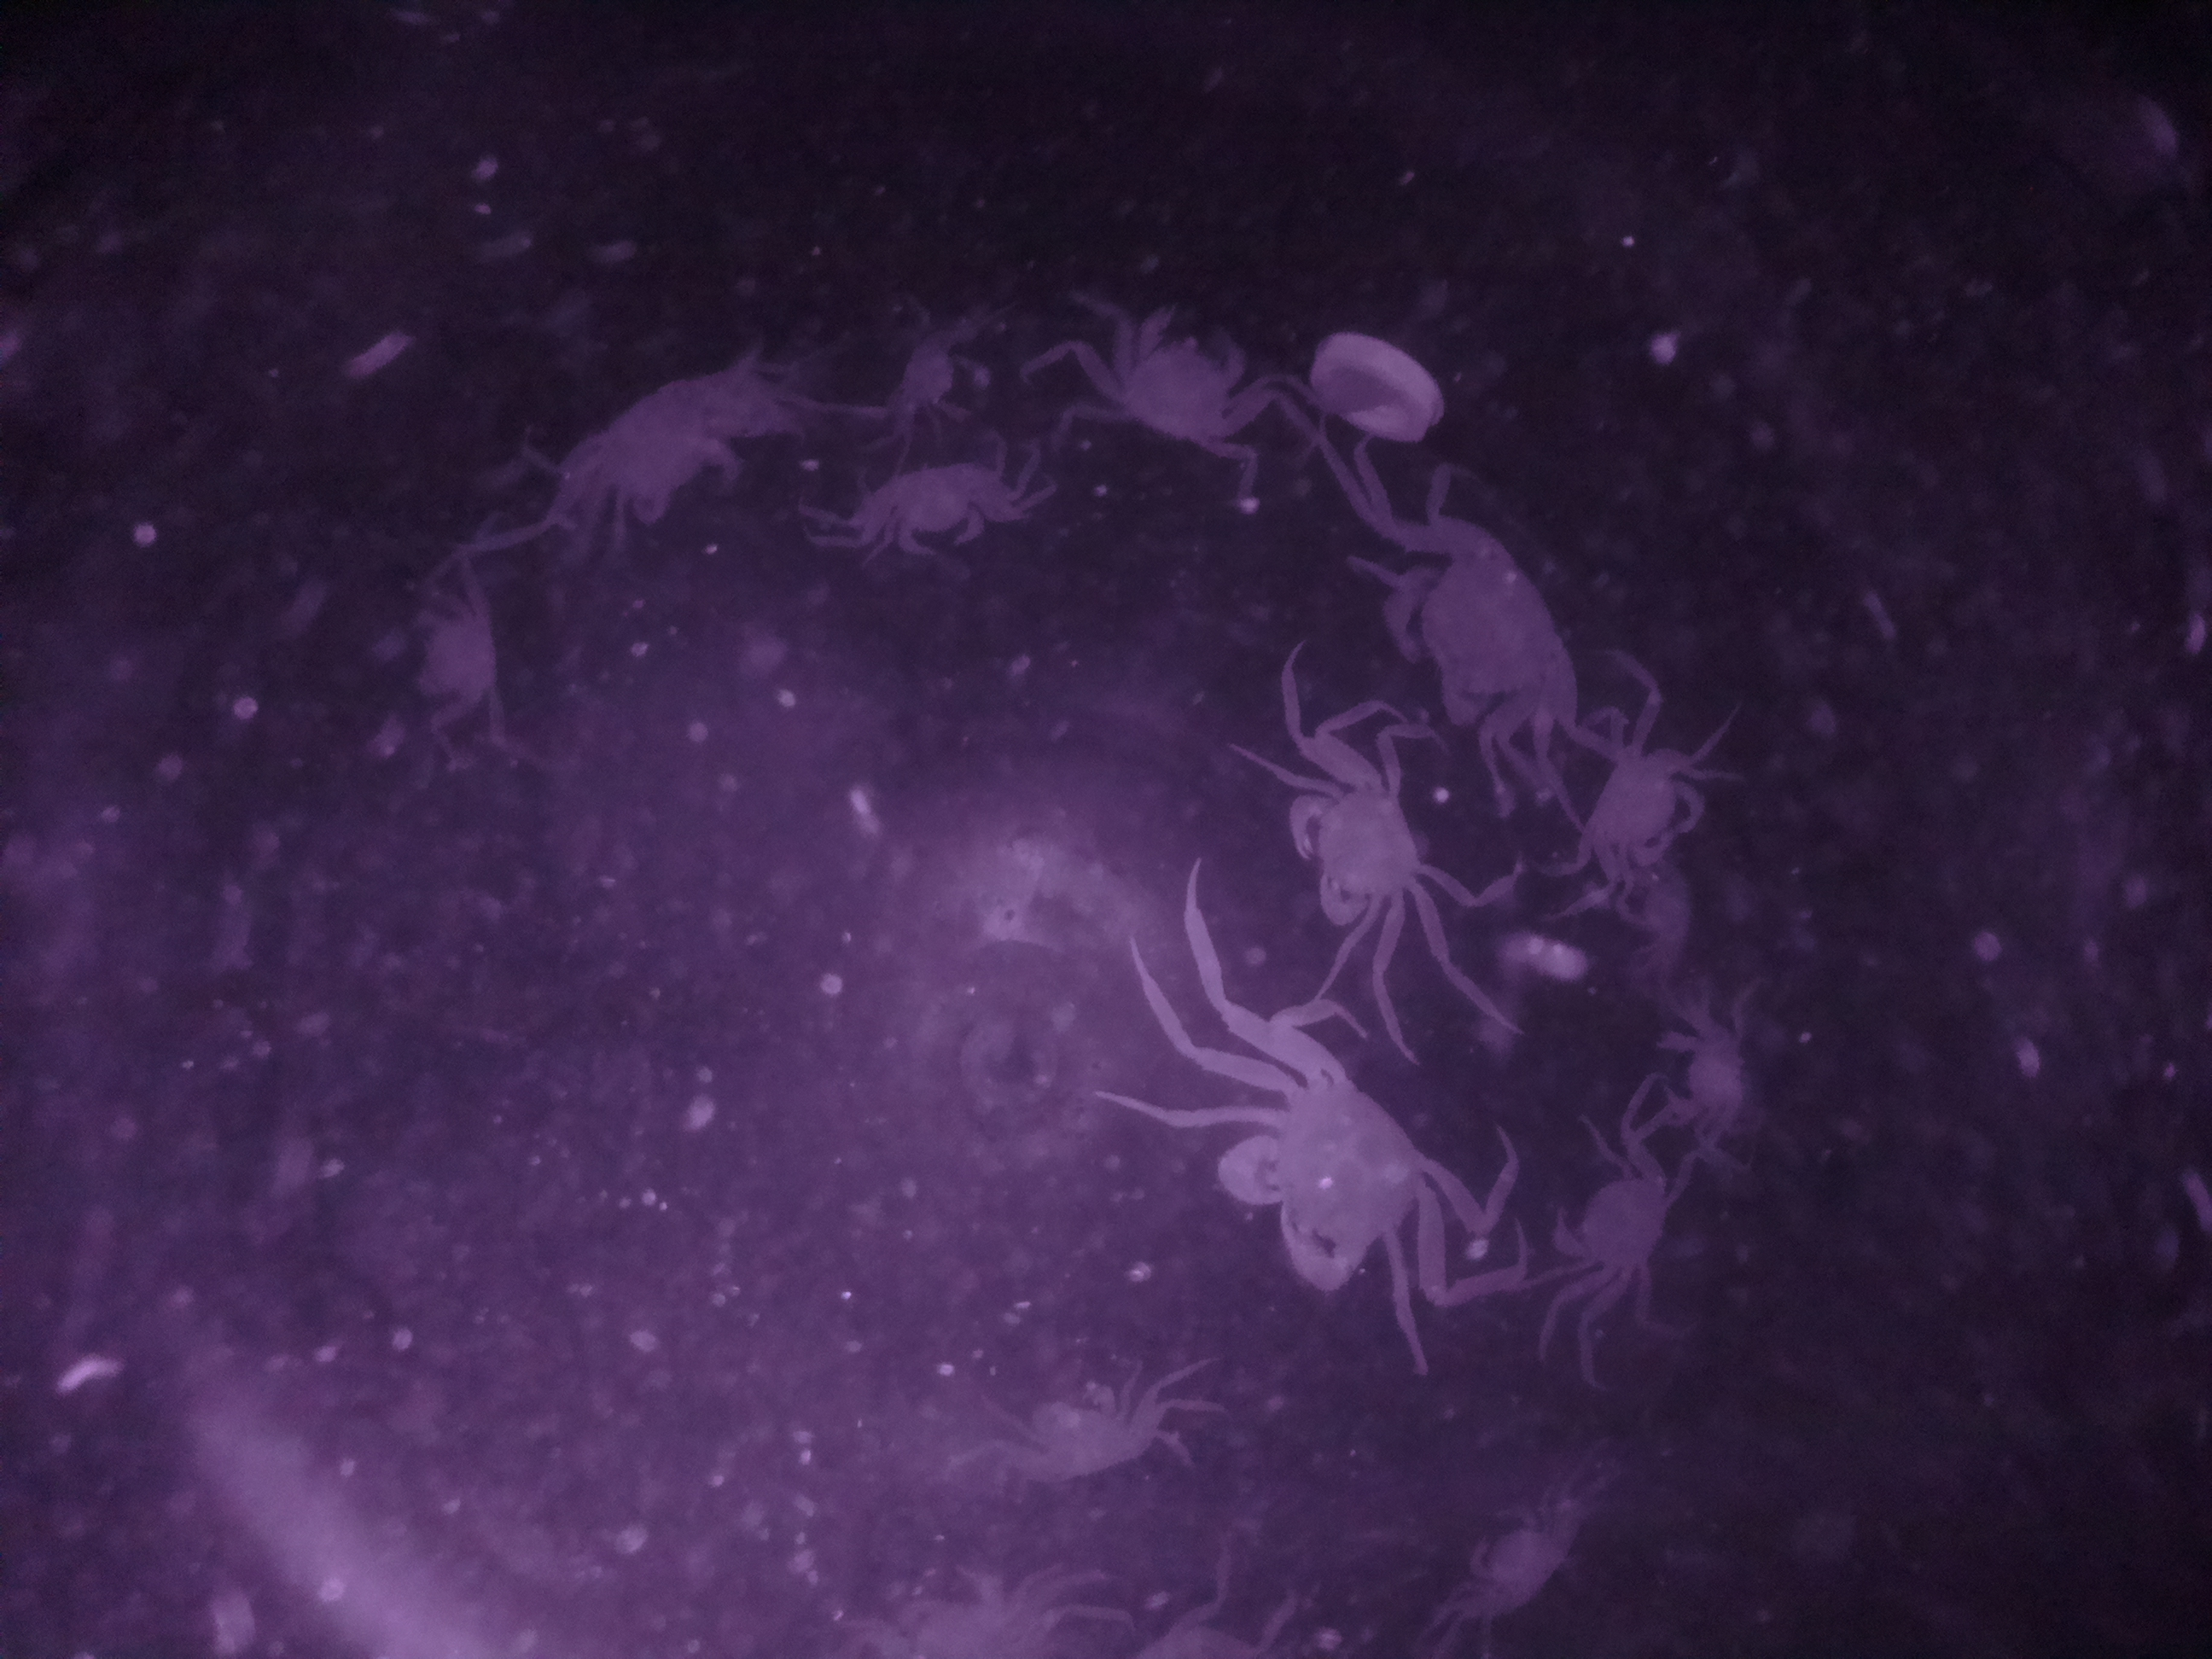Crab: (1184, 1028, 1456, 1307), (1366, 491, 1597, 732), (1069, 282, 1271, 462), (1275, 748, 1440, 955), (1552, 721, 1714, 903), (1534, 1129, 1677, 1323), (836, 441, 1022, 570)
